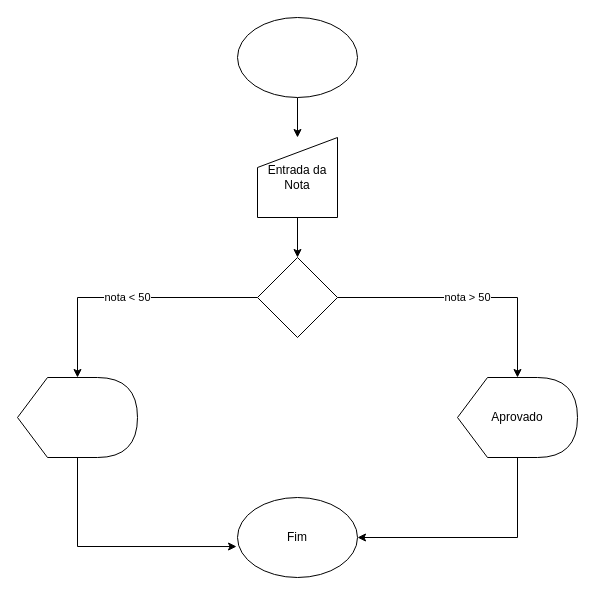
The diagram is 595 pixels wide and 595 high, and some of its shapes have lost their labels. The shapes that lost their labels are listed below. From the top down, each one's centre as x and y in pixels, then its label:
At point (297, 57): "início".
At point (77, 417): "Reprovado".
